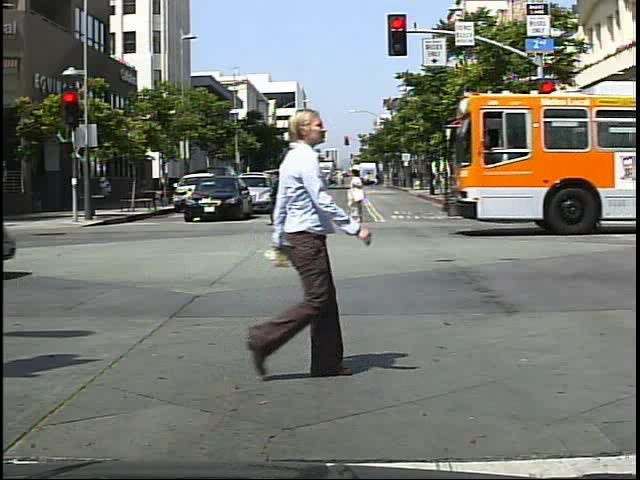person: (219, 89, 364, 389), (267, 164, 300, 236), (267, 167, 297, 228), (344, 164, 370, 210), (551, 160, 574, 211)
